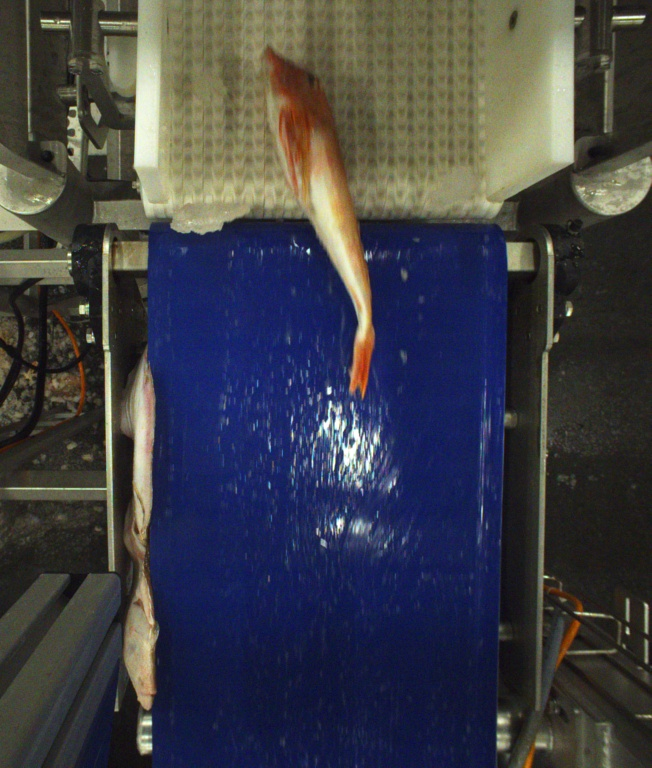GUU: (262, 46, 377, 399)
